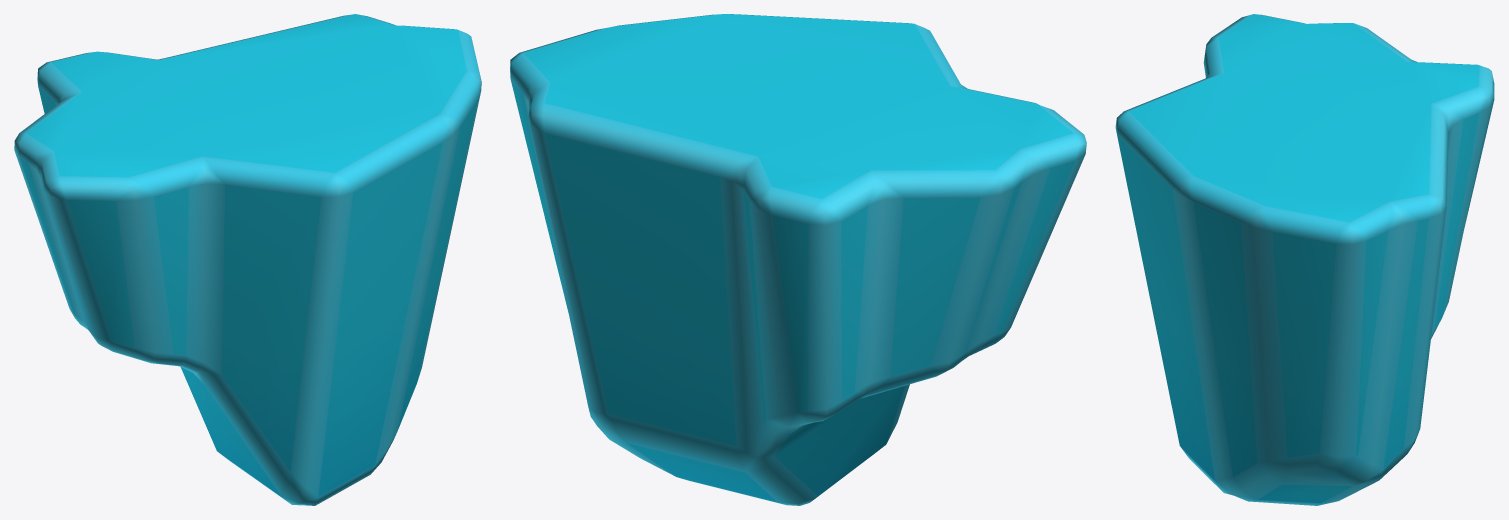
File: ice_003.fbx
The picture shows the model from 3 angles, left to right: view 1: azimuth 30°, elevation 25°; view 2: azimuth 150°, elevation 25°; view 3: azimuth 270°, elevation 25°; orthographic projection. The views are drawn at different scales.
Parts seen in each view (by area): view 1: ice_003; view 2: ice_003; view 3: ice_003.
Part boxes in pixels (left/top/right/bottom): ice_003: left=14, top=14, right=481, bottom=505; ice_003: left=510, top=14, right=1086, bottom=505; ice_003: left=1115, top=14, right=1494, bottom=505.
Bounding box in the file's own units: 359 × 263 × 266.
